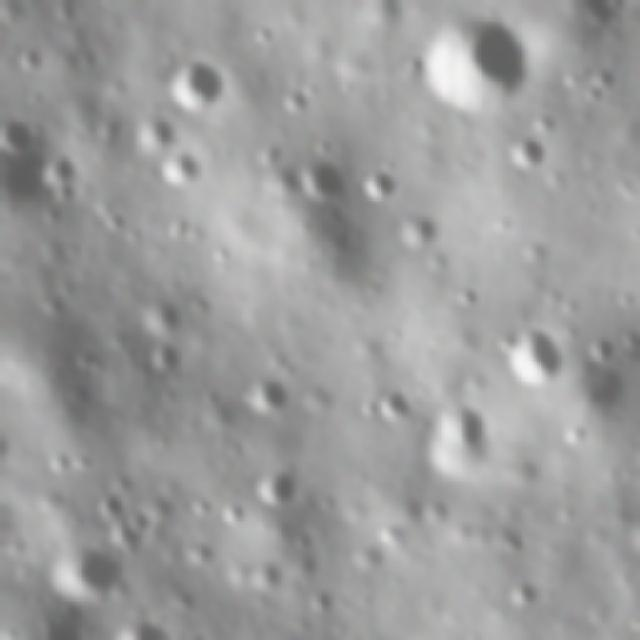crater: (419, 5, 535, 124), (48, 536, 129, 612), (428, 398, 498, 480), (497, 323, 566, 394), (160, 48, 226, 112), (297, 150, 348, 204), (382, 203, 440, 249), (352, 157, 400, 206), (240, 372, 288, 418), (496, 128, 542, 174), (0, 111, 43, 160), (158, 148, 210, 188), (106, 611, 176, 640), (254, 467, 301, 510), (129, 110, 177, 152), (135, 293, 182, 335), (32, 147, 85, 184), (242, 552, 284, 596), (378, 384, 419, 427), (146, 338, 188, 378), (8, 42, 50, 80), (275, 83, 313, 120), (91, 486, 129, 522), (497, 581, 543, 610), (585, 324, 618, 364), (45, 0, 87, 31), (120, 506, 158, 540), (303, 584, 337, 619), (214, 498, 248, 532), (354, 0, 397, 25), (50, 178, 87, 207), (247, 138, 284, 164), (495, 530, 528, 558), (350, 395, 384, 422), (528, 104, 558, 134), (98, 208, 131, 235), (452, 282, 480, 309), (599, 0, 630, 22), (175, 626, 211, 640), (202, 0, 250, 5), (0, 402, 2, 442)
